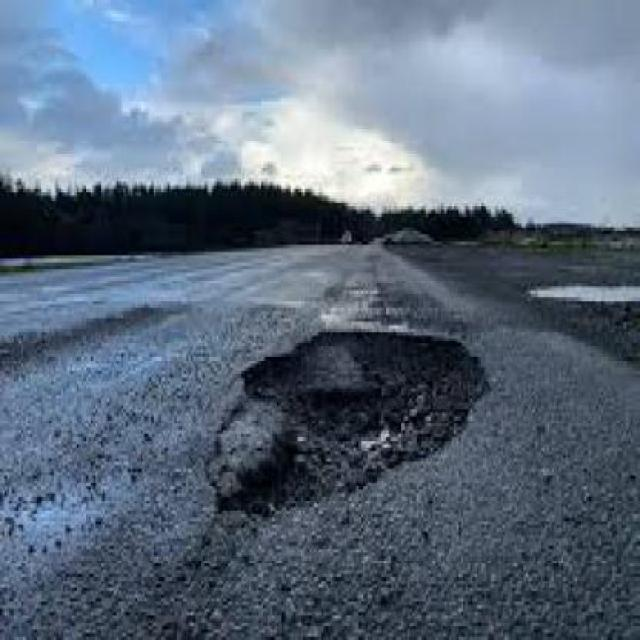pothole: (200, 317, 494, 528)
